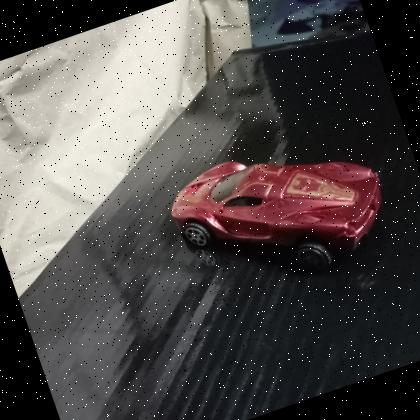Car: (152, 109, 407, 318)
